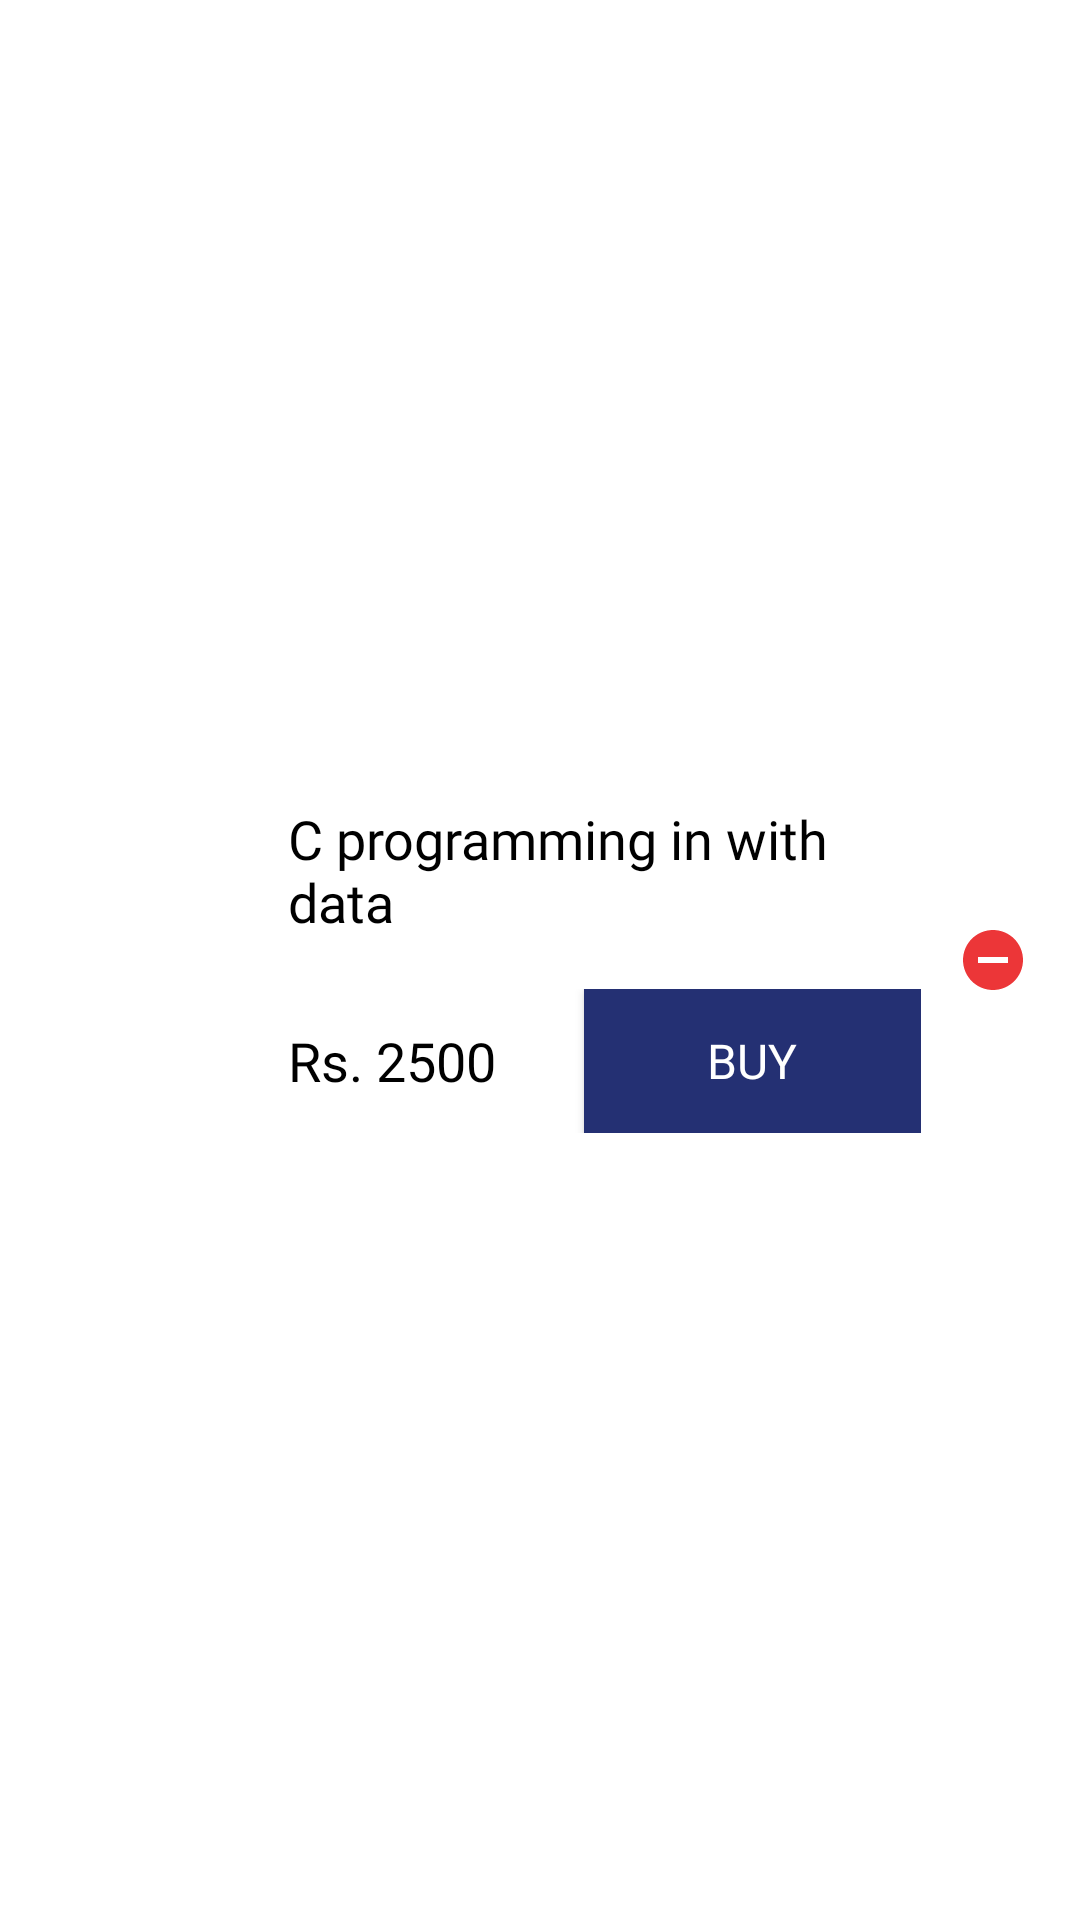

Where to tap for icons on this 1080*1920 app screen, as [x,y]:
remove circle: [993,960]
